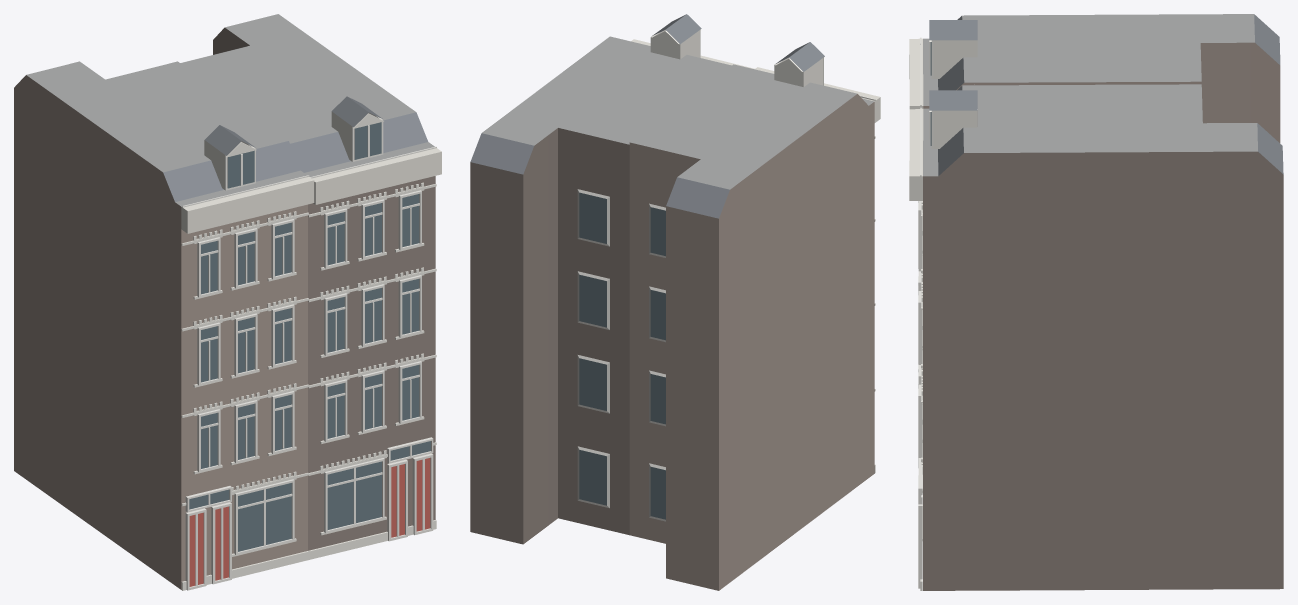
File: chunk-face-hendrik-134-154-r2.glb
The picture shows the model from 3 angles, left to right: view 1: azimuth 30°, elevation 25°; view 2: azimuth 150°, elevation 25°; view 3: azimuth 270°, elevation 25°; orthographic projection. The views are drawn at different scales.
Visible parts, largest first — view 1: face-hendrik-134-154-r2; view 2: face-hendrik-134-154-r2; view 3: face-hendrik-134-154-r2.
Boxes of the visible parts, x1=… form: face-hendrik-134-154-r2: x1=14, y1=14, x2=441, y2=590; face-hendrik-134-154-r2: x1=470, y1=14, x2=880, y2=590; face-hendrik-134-154-r2: x1=909, y1=14, x2=1283, y2=590.
Bounding box in the file's own units: 9.53 × 15.25 × 11.01.
